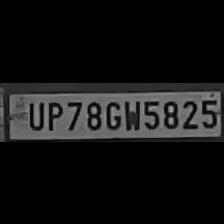2: (178, 96, 198, 128)
5: (140, 96, 160, 128), (198, 96, 218, 128)
7: (62, 97, 82, 130)
8: (84, 98, 103, 130), (160, 97, 178, 129)
G: (104, 96, 122, 130)
P: (43, 98, 62, 130)
U: (24, 98, 44, 130)
W: (122, 96, 140, 130)
